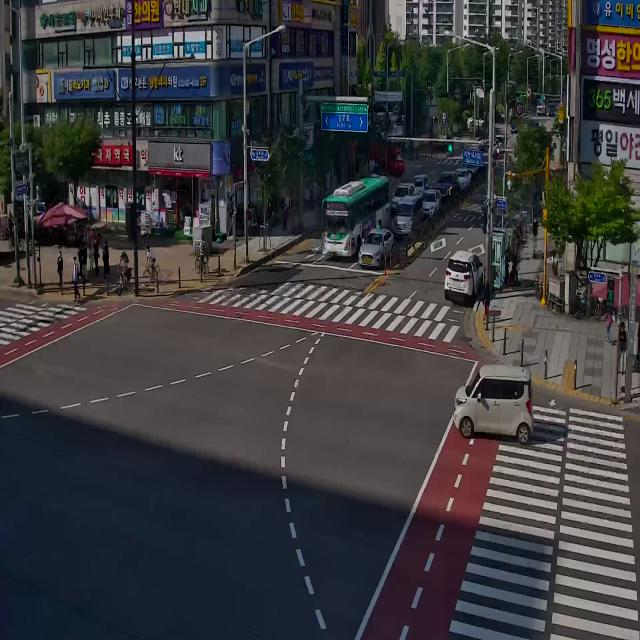Bus: (319, 168, 393, 260)
Car: (453, 361, 534, 444), (444, 249, 484, 306), (358, 227, 394, 268), (392, 196, 424, 239), (430, 167, 460, 205), (418, 188, 444, 222), (390, 176, 416, 205), (452, 163, 472, 189), (412, 170, 426, 197)
Truck: (372, 140, 407, 172)
